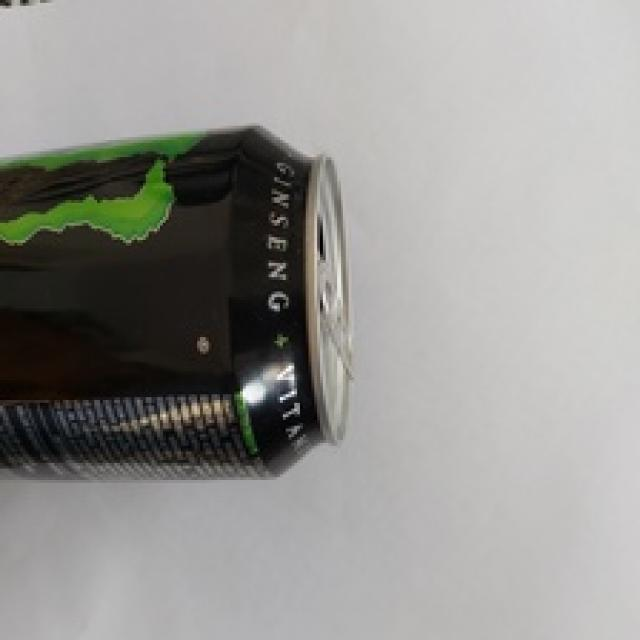recyclable: (0, 121, 349, 485)
